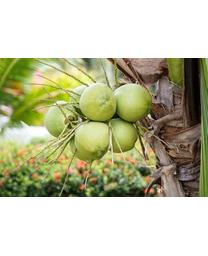coconut: (111, 83, 153, 121), (45, 100, 80, 138), (80, 84, 117, 118), (73, 121, 110, 155), (106, 117, 137, 155), (68, 86, 97, 111)
